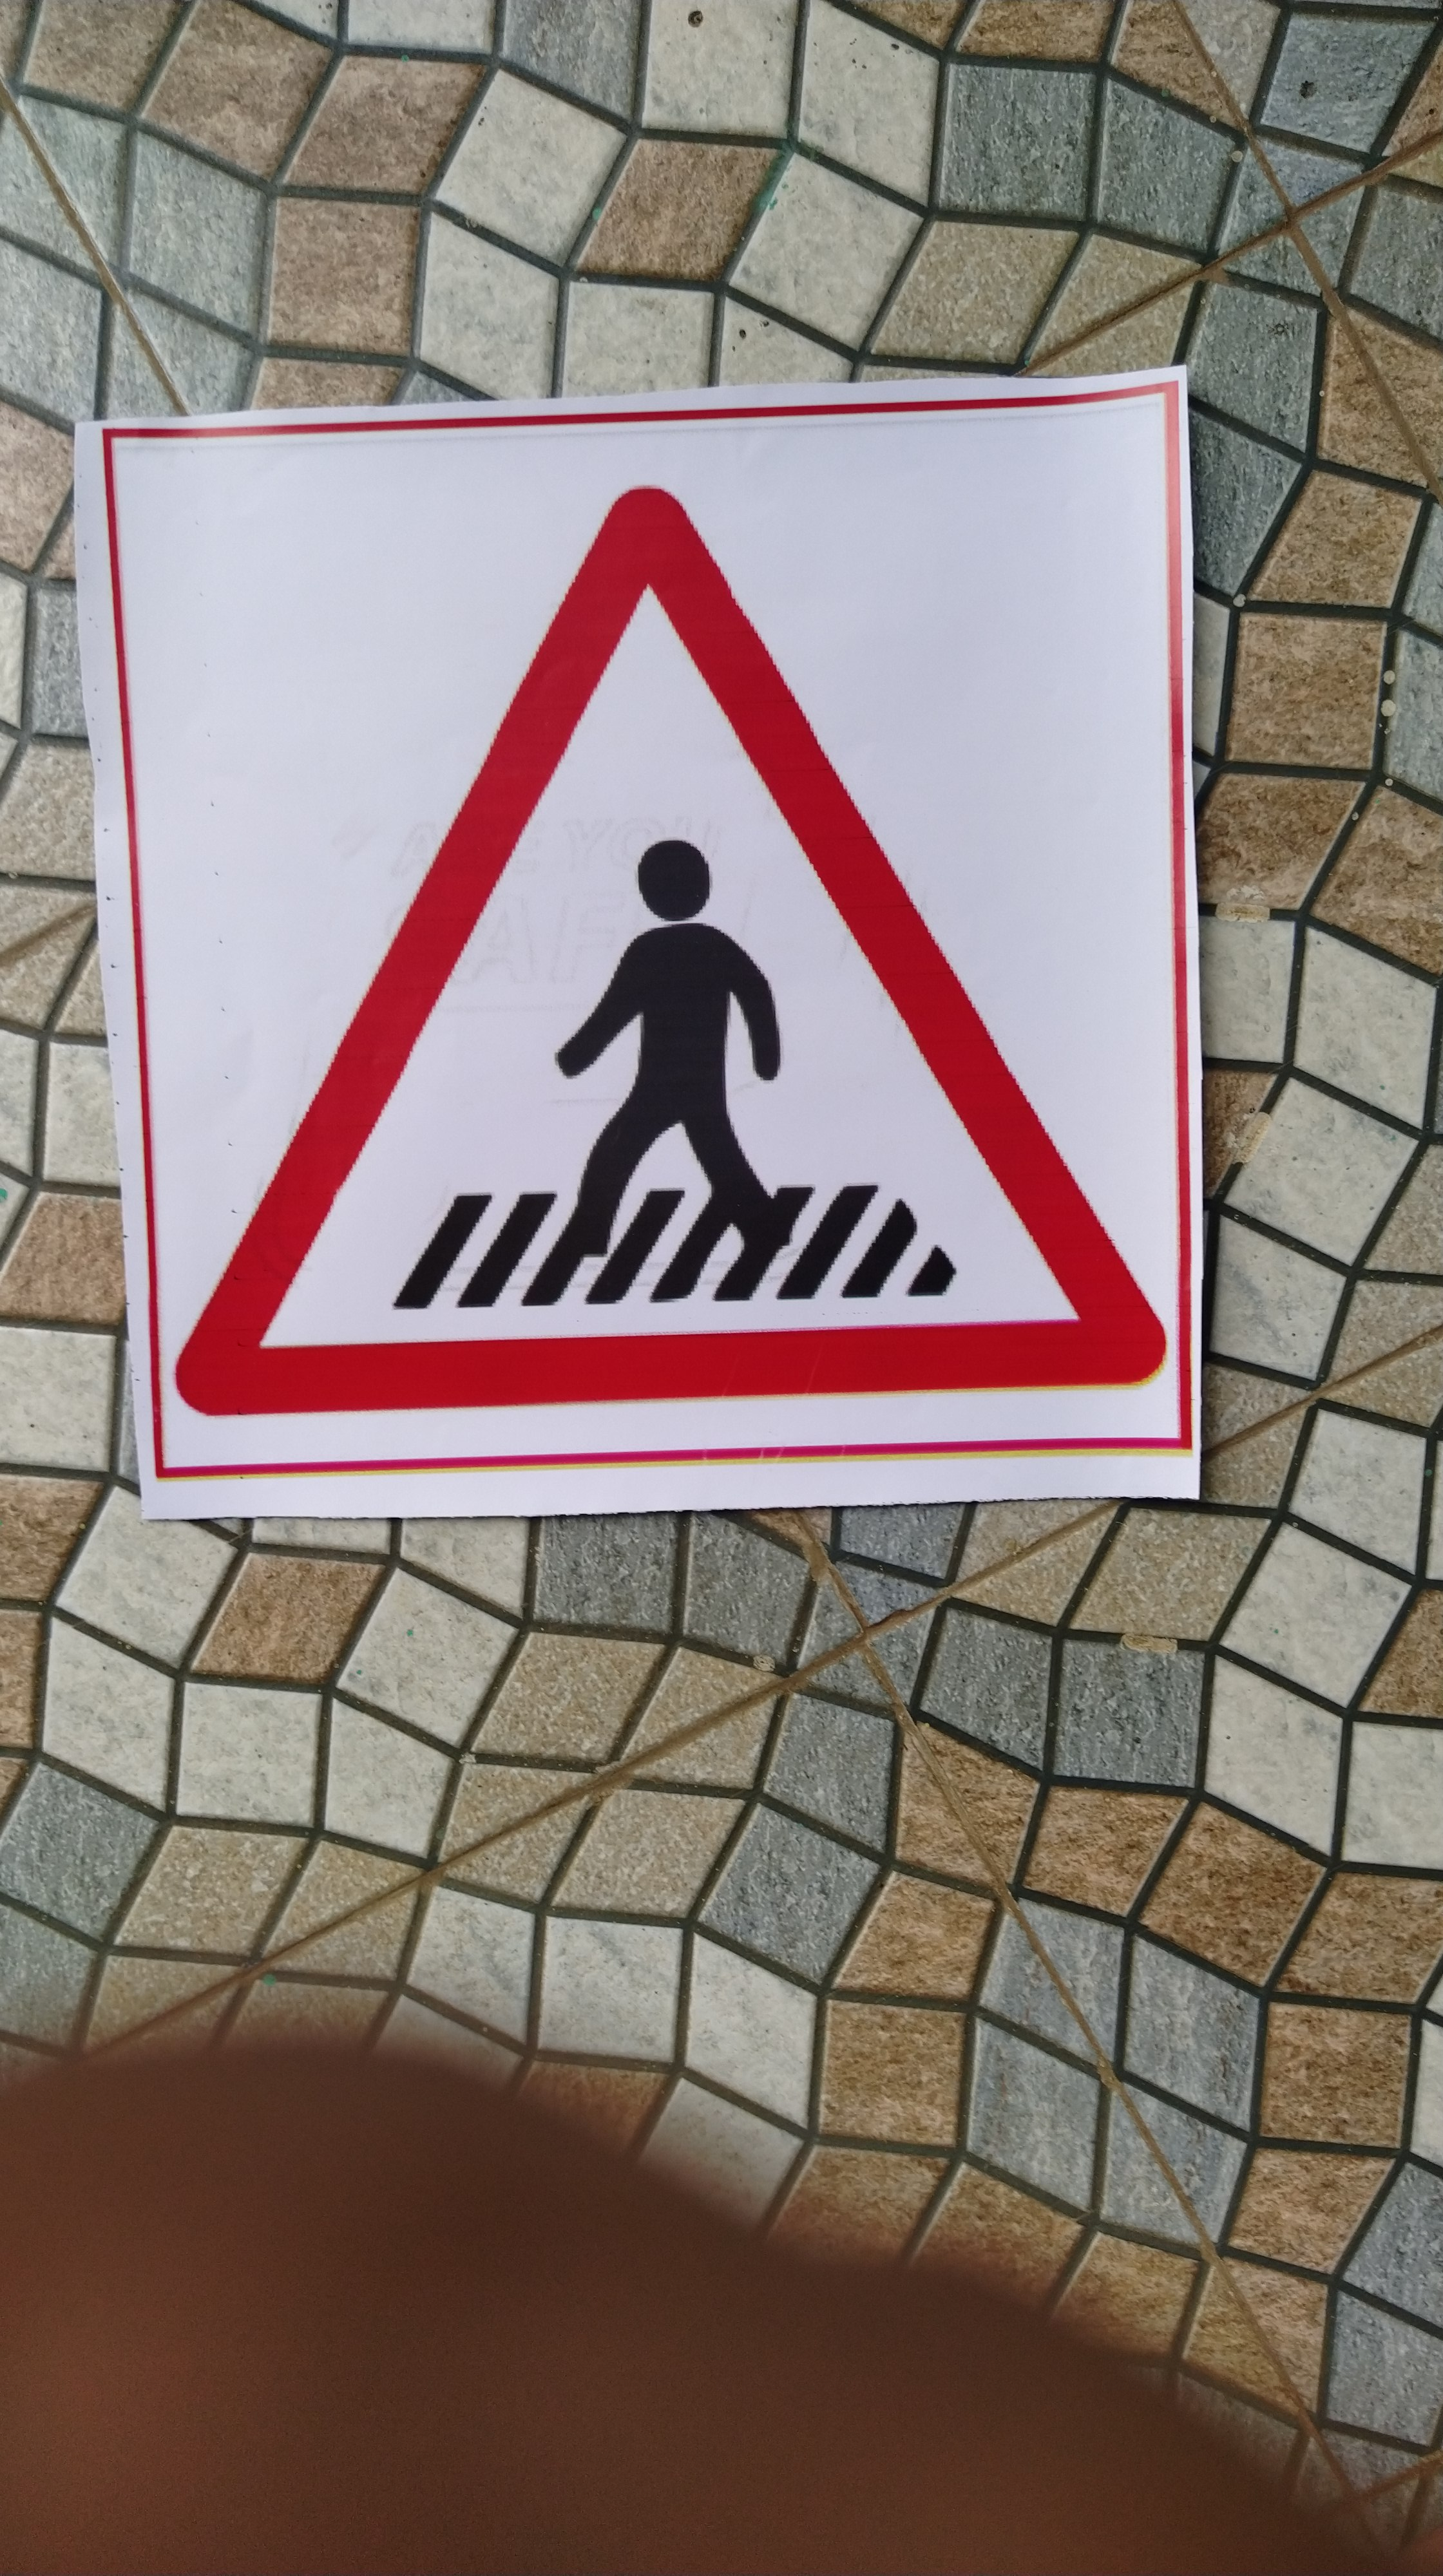pedestrain crossing: (97, 439, 1153, 1477)
